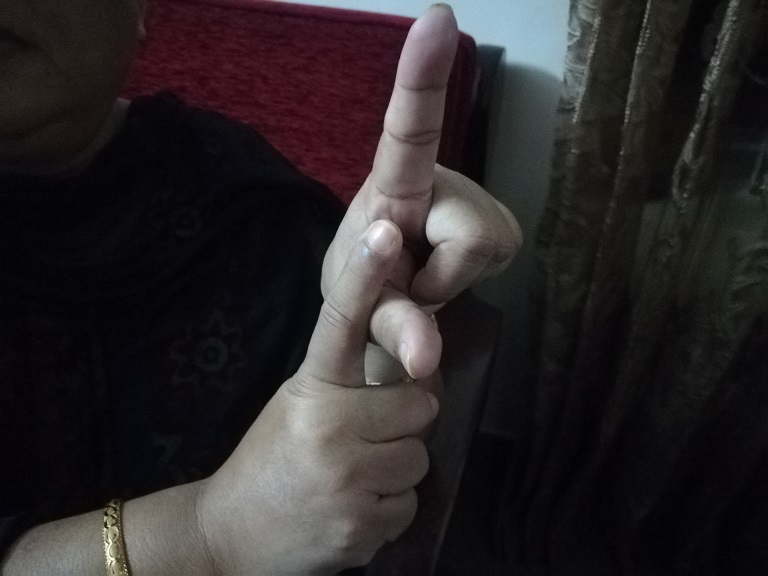dh: (298, 4, 514, 542)
